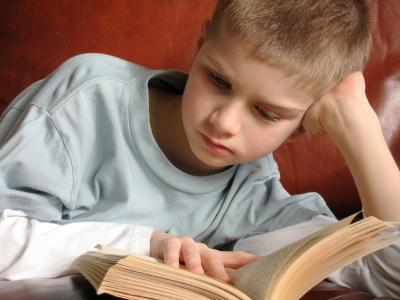person: (1, 1, 400, 300)
